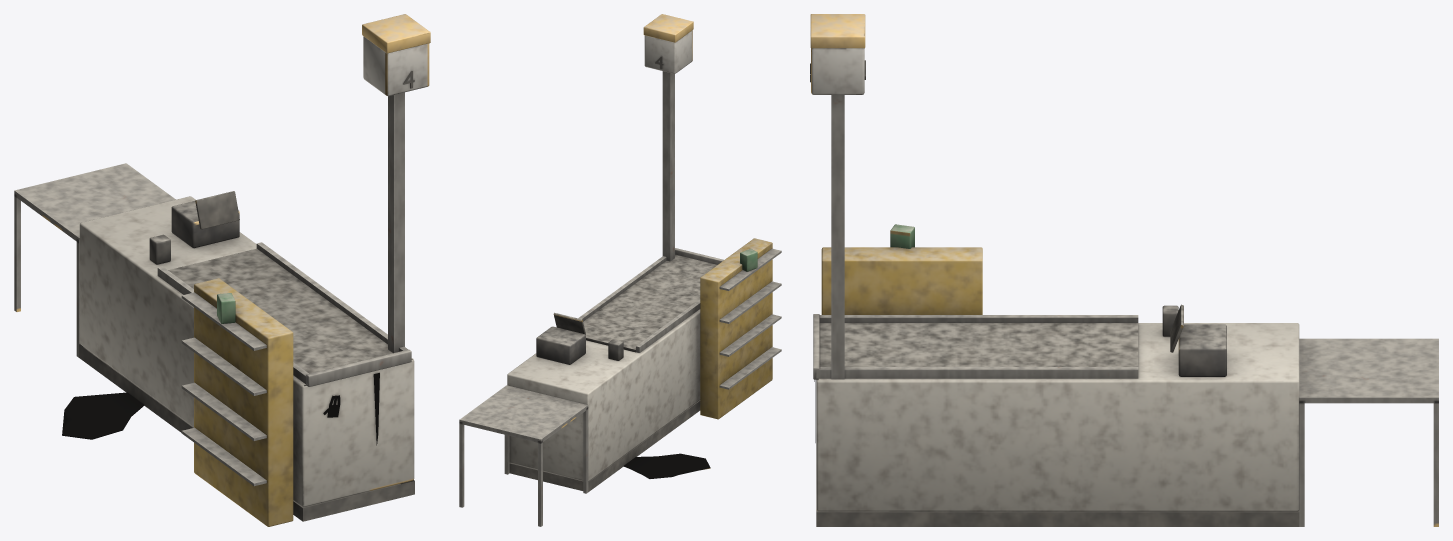
Rendered from checkout_lane_lit.fbx.
3 views of the same model, side by side, from view 1: azimuth 30°, elevation 25°; view 2: azimuth 150°, elevation 25°; view 3: azimuth 270°, elevation 25° (orthographic). The views are drawn at different scales.
Parts seen in each view (by area): view 1: Body, Glow; view 2: Body, Glow; view 3: Body, Glow.
Boxes of the visible parts, <box> form: Body: <box>14,36,429,526</box>; Glow: <box>362,14,430,53</box>; Body: <box>459,30,781,526</box>; Glow: <box>643,14,693,42</box>; Body: <box>810,48,1438,526</box>; Glow: <box>810,14,865,48</box>.
Size of the model in its own units: 5.06 by 10.23 by 11.72.
Materials: 1 (1 with a texture image).
